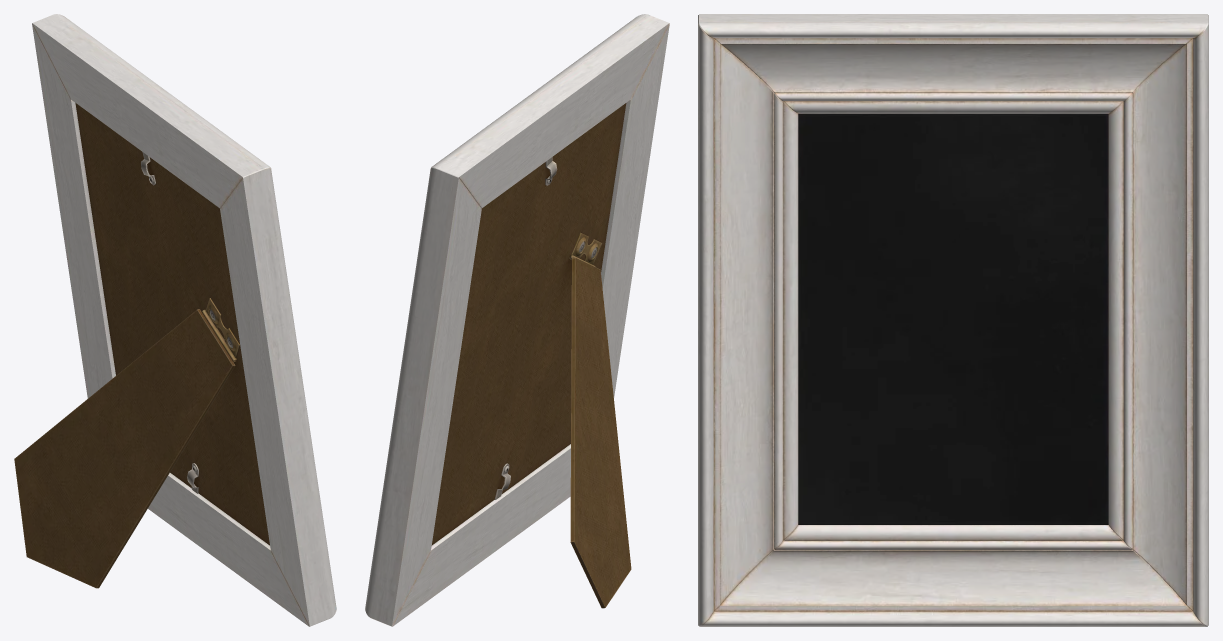
File: standing_picture_frame_02.gltf
3 views of the same model, side by side, from view 1: azimuth 30°, elevation 25°; view 2: azimuth 150°, elevation 25°; view 3: azimuth 270°, elevation 25° (orthographic). The views are drawn at different scales.
Visible parts, largest first — view 1: standing_picture_frame_02; view 2: standing_picture_frame_02; view 3: standing_picture_frame_02.
Boxes of the visible parts, <box> form: standing_picture_frame_02: <box>14,14,336,626</box>; standing_picture_frame_02: <box>365,14,669,626</box>; standing_picture_frame_02: <box>698,14,1208,626</box>.
Size of the model in its own units: 0.1023 by 0.2664 by 0.2169.
3 materials, 3 textured.
